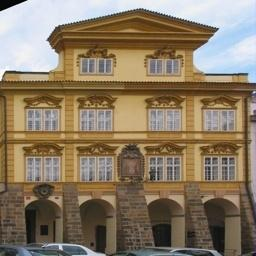building: (3, 13, 256, 254)
